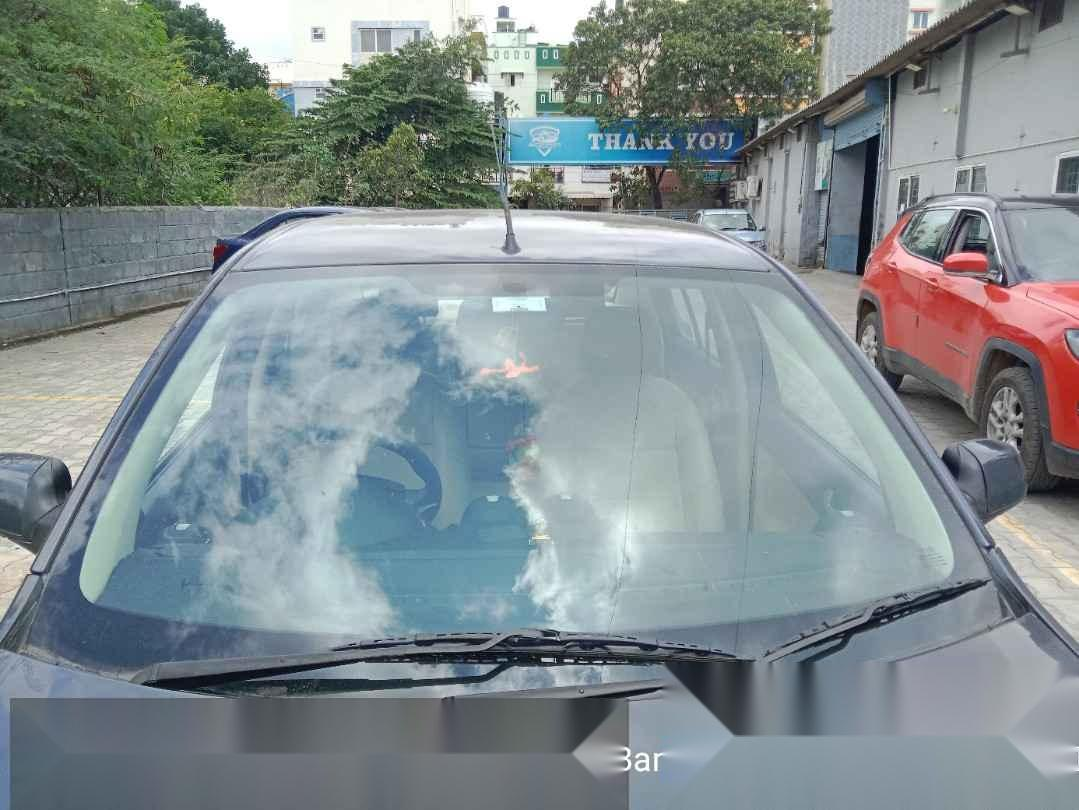FastTag: (471, 283, 572, 331)
